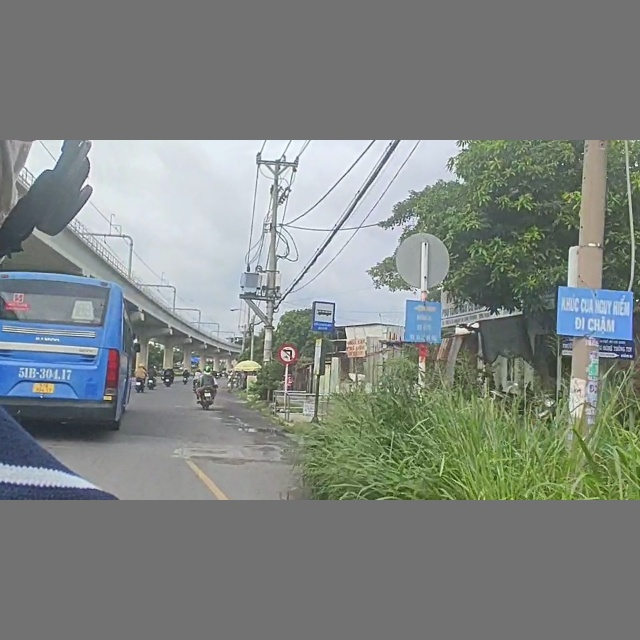I.434a: (311, 299, 337, 332)
P.123a: (277, 344, 299, 365)
